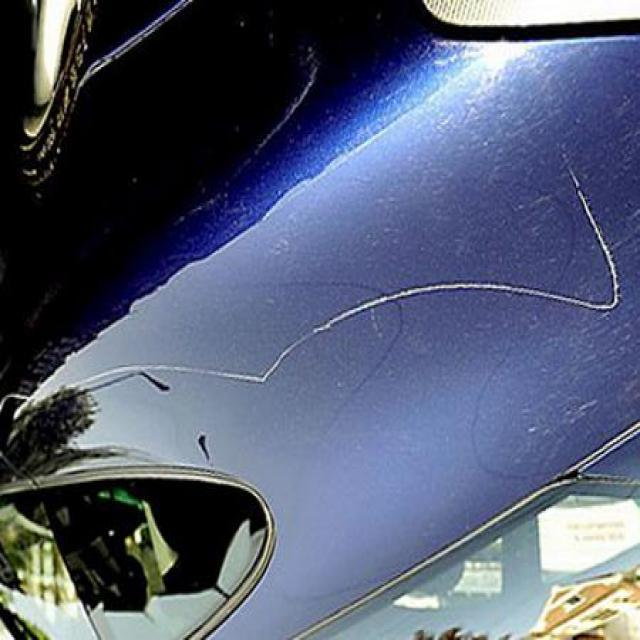scratch: (184, 144, 628, 397)
